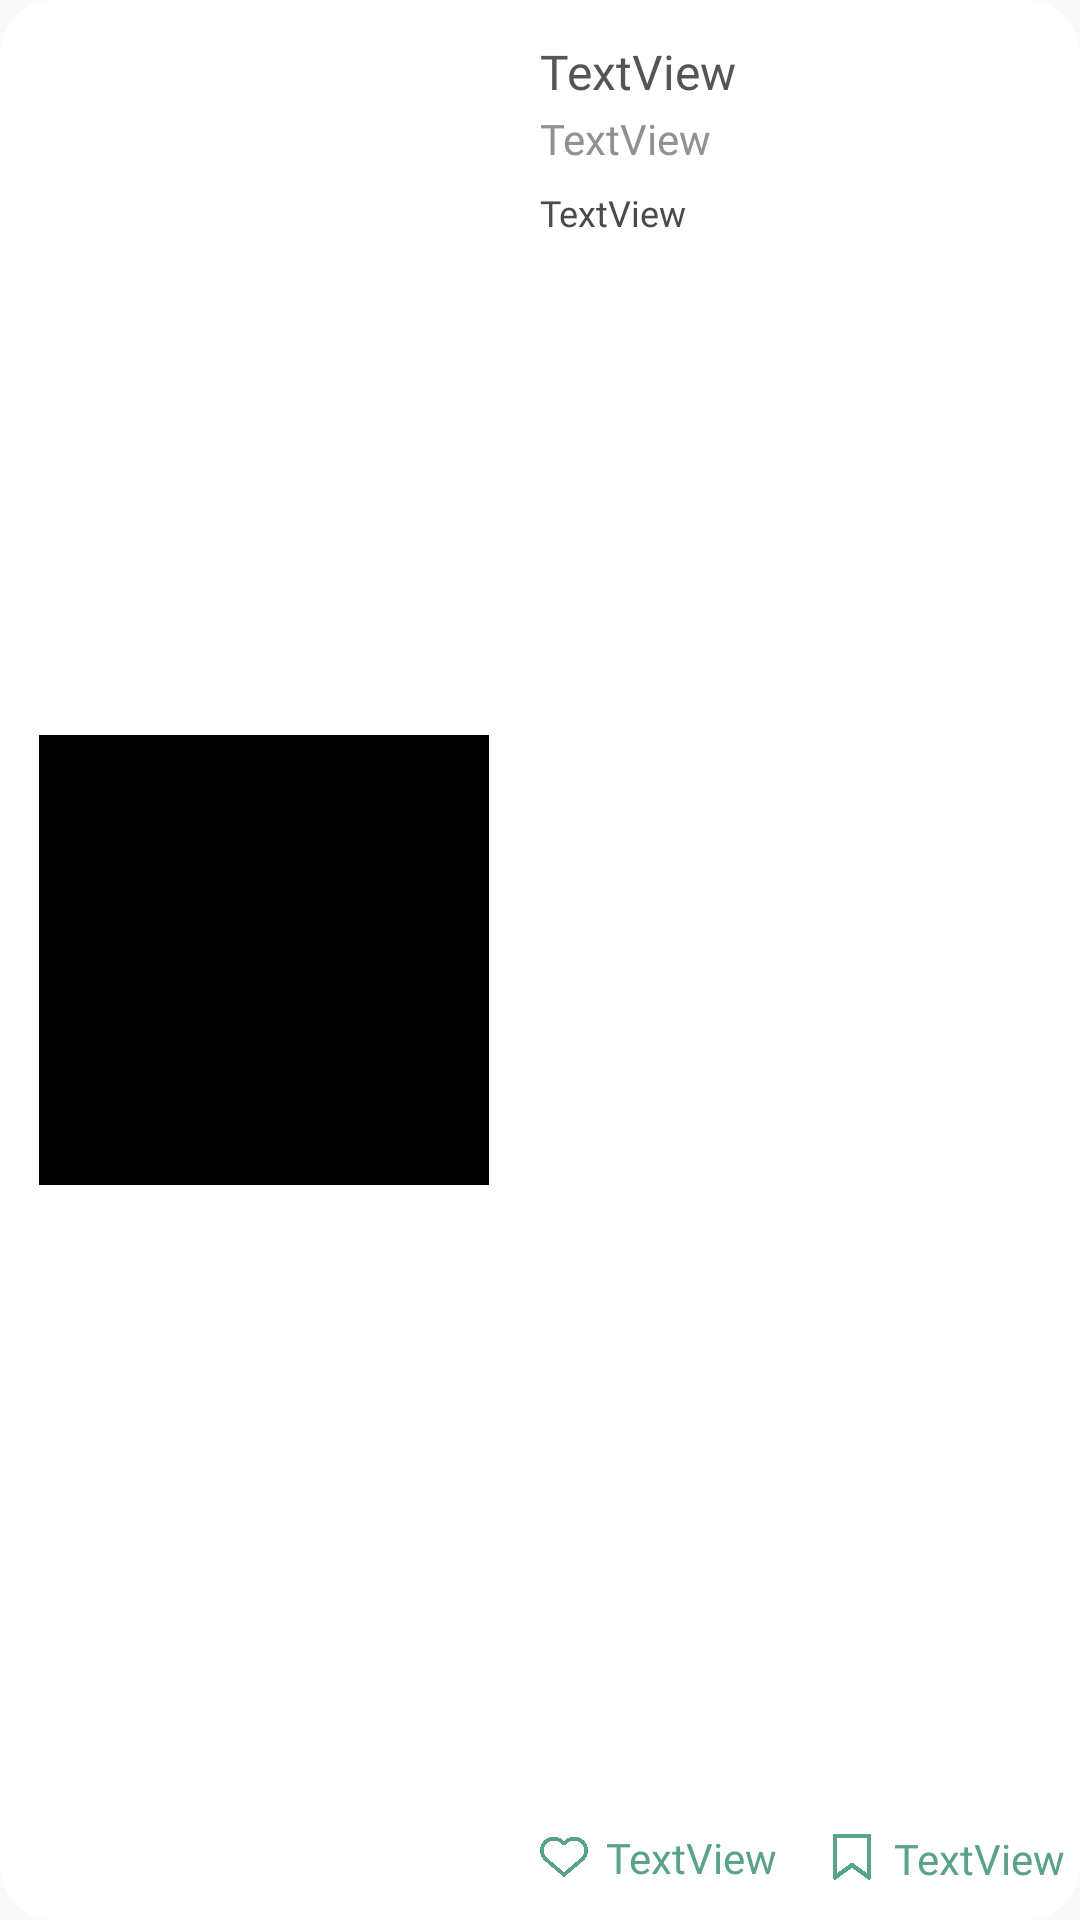

Locate icon controls on the screen. Image size 1080 x 1920, boxes as bbox=(x1, y1, x2, y2).
unlike: bbox=(540, 1837, 588, 1877)
unscrap: bbox=(833, 1834, 871, 1880)
